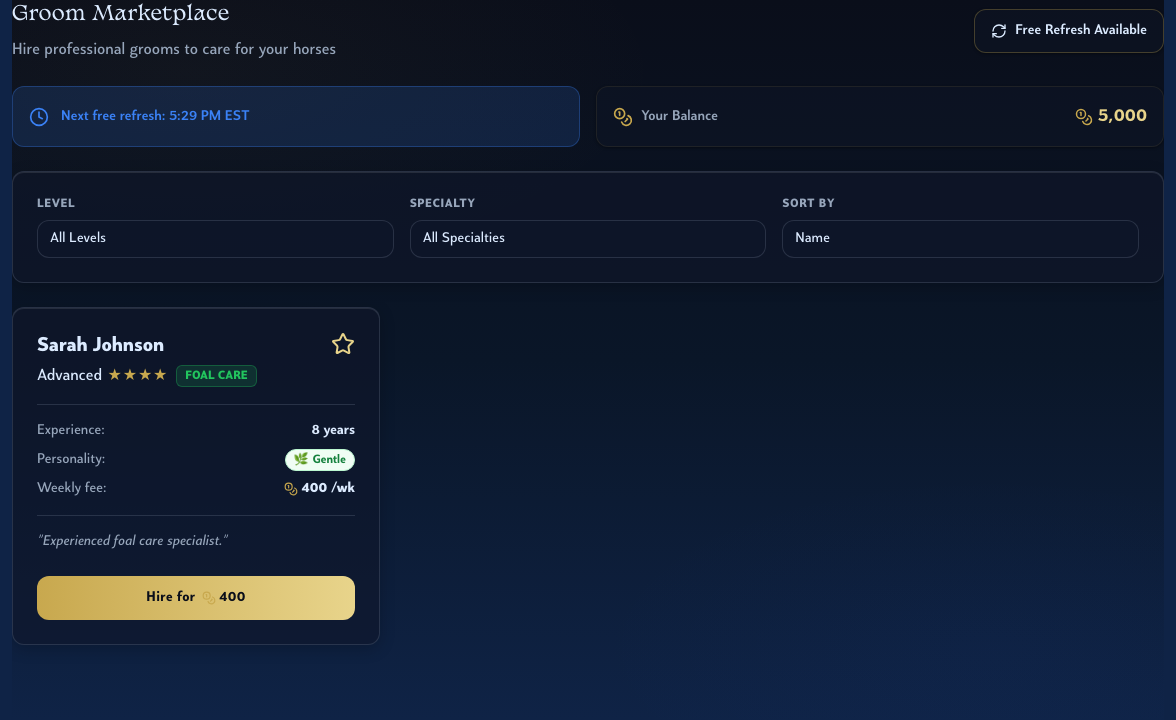
Test: GroomList — refusal codes (Equoria-dosig) › a stale refusal is cleared by the next click
Click the button with aria-label "hire sarah johnson" at (196, 598), box [37,576,355,620]
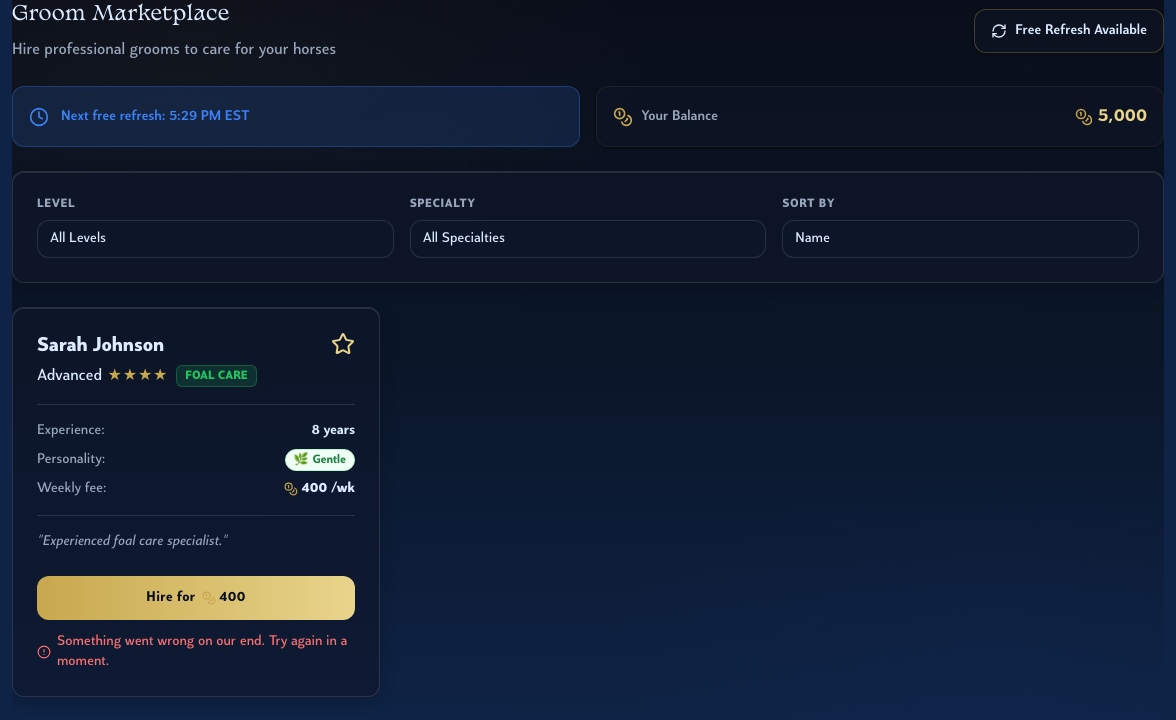
Click the button with aria-label "hire sarah johnson" at (196, 598), box [37,576,355,620]
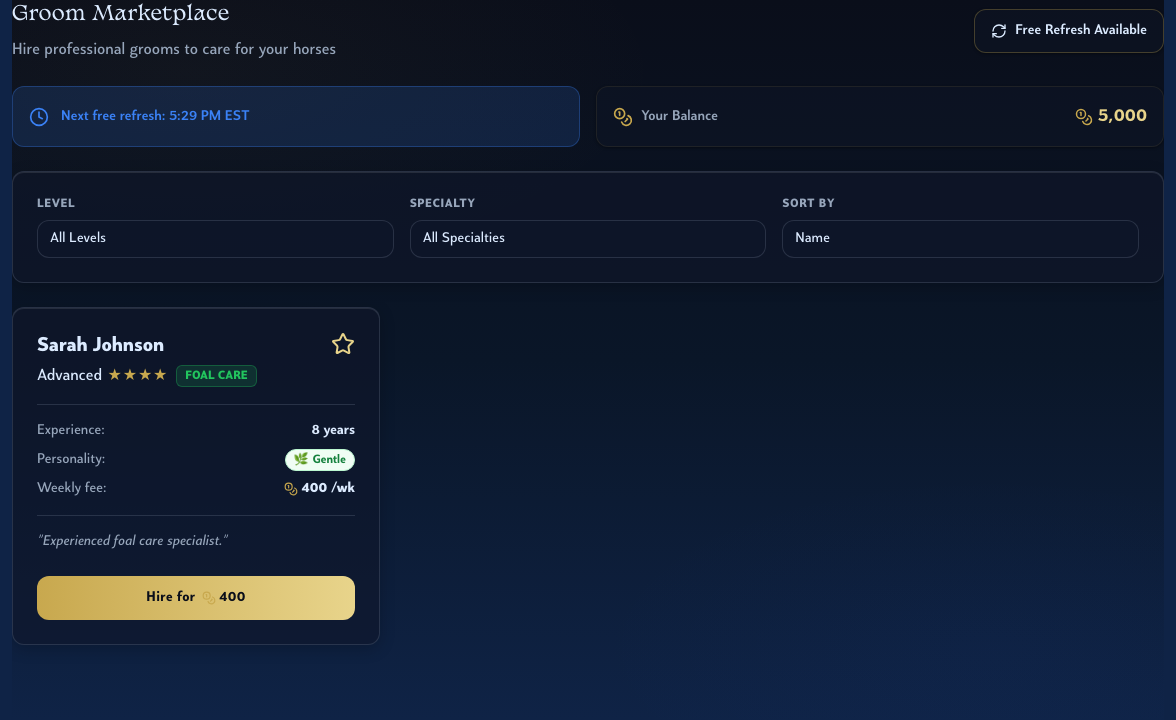
Expected: the message "Something went wrong on our end. Try again in a moment." is gone
